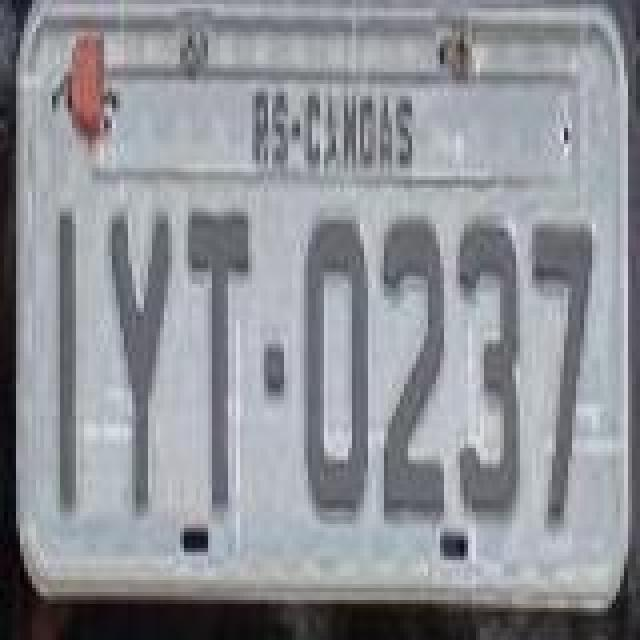1: (52, 202, 76, 510)
2: (380, 212, 444, 524)
3: (454, 212, 522, 516)
7: (528, 214, 592, 522)
O: (300, 216, 372, 520)
T: (188, 208, 252, 512)
Y: (106, 208, 174, 512)
